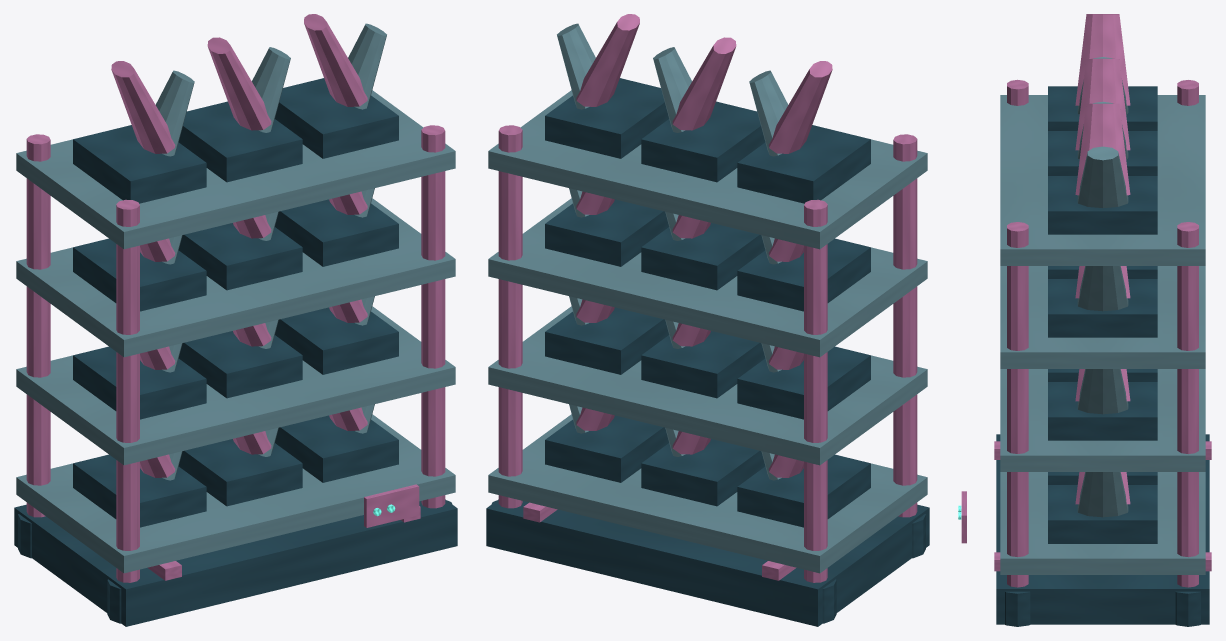
Rendered from atlas100-s062-a02.glb.
The picture shows the model from 3 angles, left to right: view 1: azimuth 30°, elevation 25°; view 2: azimuth 150°, elevation 25°; view 3: azimuth 270°, elevation 25°; orthographic projection. The views are drawn at different scales.
Parts seen in each view (by area): view 1: atlas100-s062-a02:part-000, atlas100-s062-a02:part-041, atlas100-s062-a02:part-031, atlas100-s062-a02:part-021, atlas100-s062-a02:part-011, atlas100-s062-a02:part-009, atlas100-s062-a02:part-005, atlas100-s062-a02:part-003, atlas100-s062-a02:part-042, atlas100-s062-a02:part-045, atlas100-s062-a02:part-048, atlas100-s062-a02:part-035 (+24 smaller); view 2: atlas100-s062-a02:part-000, atlas100-s062-a02:part-041, atlas100-s062-a02:part-011, atlas100-s062-a02:part-031, atlas100-s062-a02:part-021, atlas100-s062-a02:part-007, atlas100-s062-a02:part-003, atlas100-s062-a02:part-005, atlas100-s062-a02:part-042, atlas100-s062-a02:part-045, atlas100-s062-a02:part-048, atlas100-s062-a02:part-035 (+23 smaller); view 3: atlas100-s062-a02:part-041, atlas100-s062-a02:part-031, atlas100-s062-a02:part-021, atlas100-s062-a02:part-011, atlas100-s062-a02:part-000, atlas100-s062-a02:part-007, atlas100-s062-a02:part-009, atlas100-s062-a02:part-048, atlas100-s062-a02:part-038, atlas100-s062-a02:part-028, atlas100-s062-a02:part-018, atlas100-s062-a02:part-042 (+15 smaller).
Boxes of the visible parts, bbox=[...] form: atlas100-s062-a02:part-000: bbox=[14, 499, 457, 626]; atlas100-s062-a02:part-041: bbox=[16, 90, 455, 249]; atlas100-s062-a02:part-031: bbox=[16, 198, 455, 357]; atlas100-s062-a02:part-021: bbox=[16, 306, 455, 465]; atlas100-s062-a02:part-011: bbox=[16, 414, 455, 573]; atlas100-s062-a02:part-009: bbox=[421, 125, 445, 508]; atlas100-s062-a02:part-005: bbox=[116, 199, 139, 582]; atlas100-s062-a02:part-003: bbox=[26, 134, 50, 517]; atlas100-s062-a02:part-042: bbox=[73, 125, 206, 203]; atlas100-s062-a02:part-045: bbox=[178, 101, 302, 182]; atlas100-s062-a02:part-048: bbox=[274, 78, 398, 158]; atlas100-s062-a02:part-035: bbox=[178, 223, 302, 290]; atlas100-s062-a02:part-000: bbox=[486, 499, 929, 626]; atlas100-s062-a02:part-041: bbox=[488, 90, 927, 249]; atlas100-s062-a02:part-011: bbox=[488, 414, 927, 573]; atlas100-s062-a02:part-031: bbox=[488, 198, 927, 357]; atlas100-s062-a02:part-021: bbox=[488, 306, 927, 465]; atlas100-s062-a02:part-007: bbox=[498, 125, 522, 508]; atlas100-s062-a02:part-003: bbox=[804, 199, 827, 582]; atlas100-s062-a02:part-005: bbox=[893, 134, 917, 517]; atlas100-s062-a02:part-042: bbox=[737, 125, 870, 203]; atlas100-s062-a02:part-045: bbox=[641, 101, 765, 182]; atlas100-s062-a02:part-048: bbox=[545, 78, 669, 158]; atlas100-s062-a02:part-035: bbox=[641, 223, 765, 290]; atlas100-s062-a02:part-041: bbox=[1000, 95, 1205, 265]; atlas100-s062-a02:part-031: bbox=[1000, 266, 1205, 368]; atlas100-s062-a02:part-021: bbox=[1000, 369, 1205, 471]; atlas100-s062-a02:part-011: bbox=[1000, 472, 1205, 574]; atlas100-s062-a02:part-000: bbox=[996, 434, 1209, 624]; atlas100-s062-a02:part-007: bbox=[1177, 222, 1198, 587]; atlas100-s062-a02:part-009: bbox=[1007, 222, 1028, 587]; atlas100-s062-a02:part-048: bbox=[1048, 176, 1157, 234]; atlas100-s062-a02:part-038: bbox=[1048, 279, 1157, 337]; atlas100-s062-a02:part-028: bbox=[1048, 382, 1157, 440]; atlas100-s062-a02:part-018: bbox=[1048, 485, 1157, 543]; atlas100-s062-a02:part-042: bbox=[1048, 86, 1157, 130].
Size of the model in its own units: 2.47 by 3.51 by 1.66.
4 materials, 4 textured.
